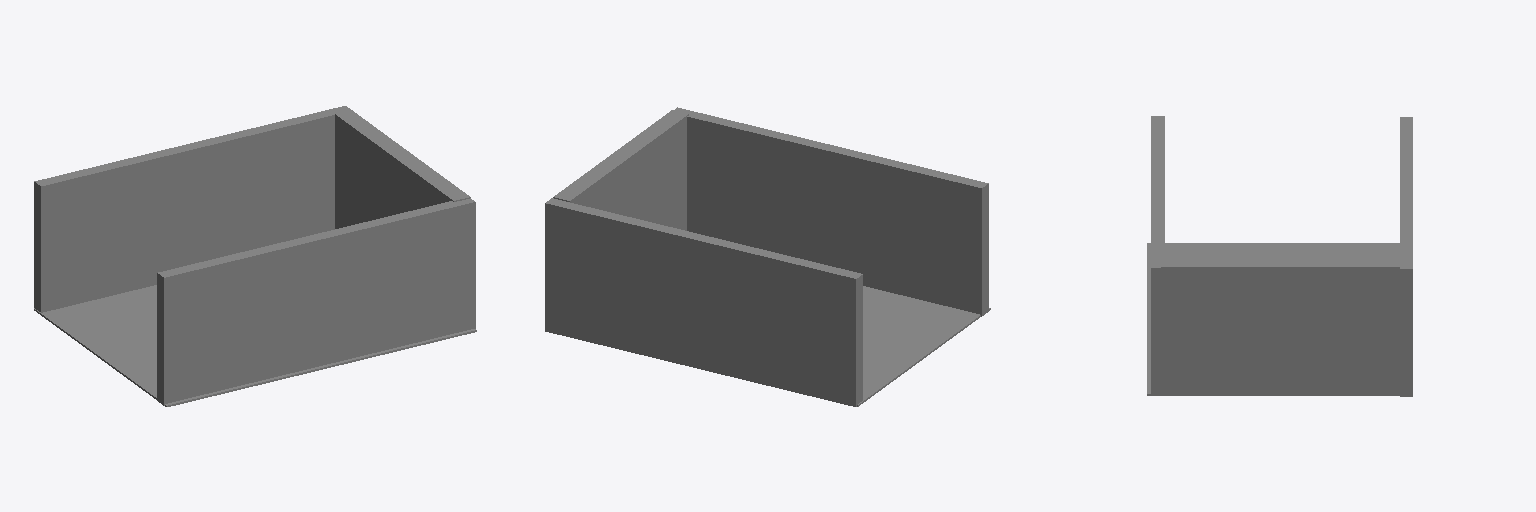
Rendered from room.obj.
3 views of the same model, side by side, from view 1: azimuth 30°, elevation 25°; view 2: azimuth 150°, elevation 25°; view 3: azimuth 270°, elevation 25° (orthographic).
Parts seen in each view (by area): view 1: Box003; view 2: Box003; view 3: Box003.
Boxes of the visible parts, box(x1,y1,x2,y2) form: Box003: box(34, 106, 476, 406); Box003: box(545, 107, 990, 406); Box003: box(1147, 116, 1412, 396).
Bounding box in the file's own units: 89.81 × 35.57 × 66.38.